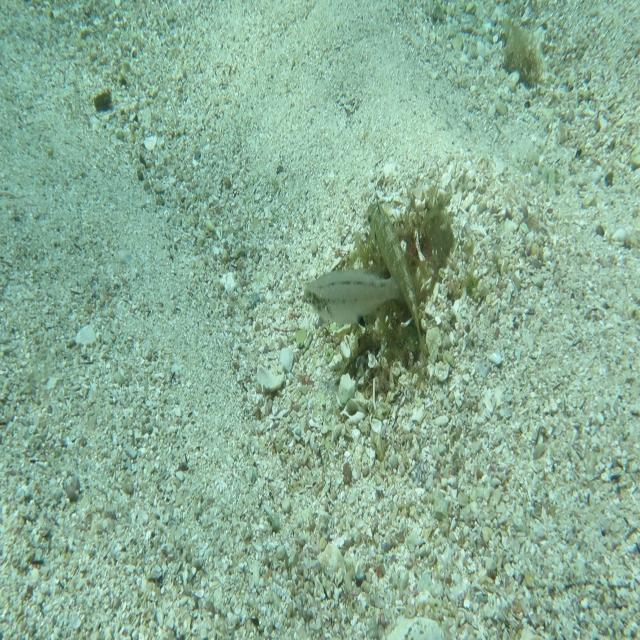ROLL: (364, 195, 428, 368)
female: (296, 256, 413, 331)
nest: (330, 182, 463, 401)
